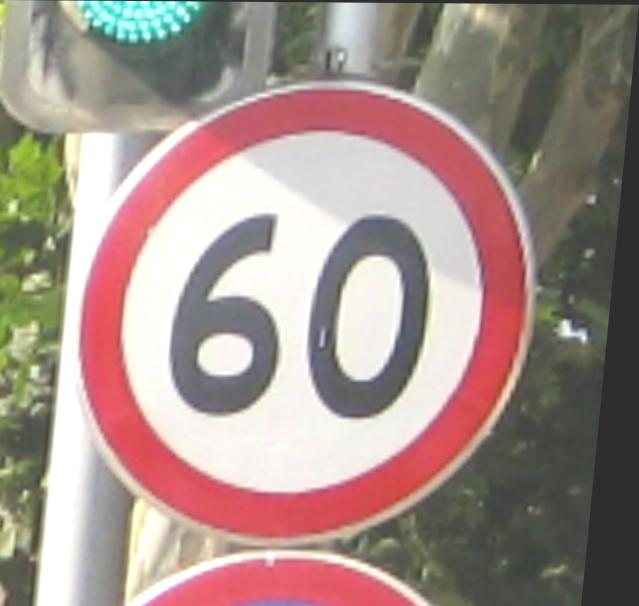limit60: (53, 62, 569, 556)
